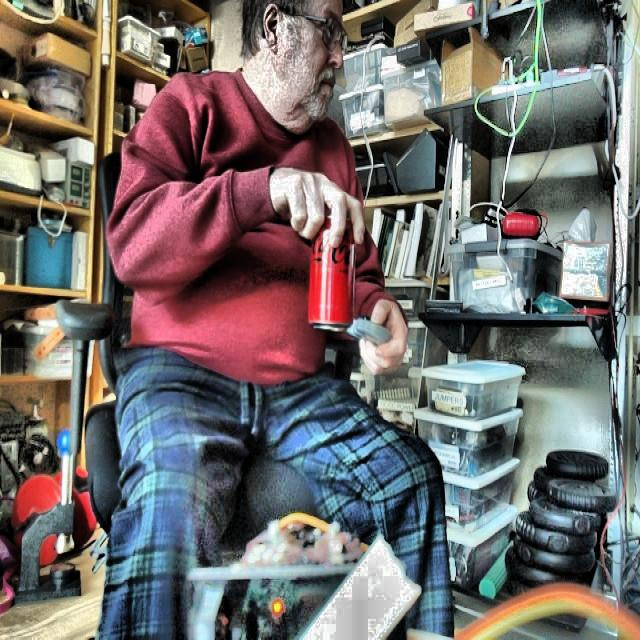CokeZero-can: (307, 214, 355, 332)
